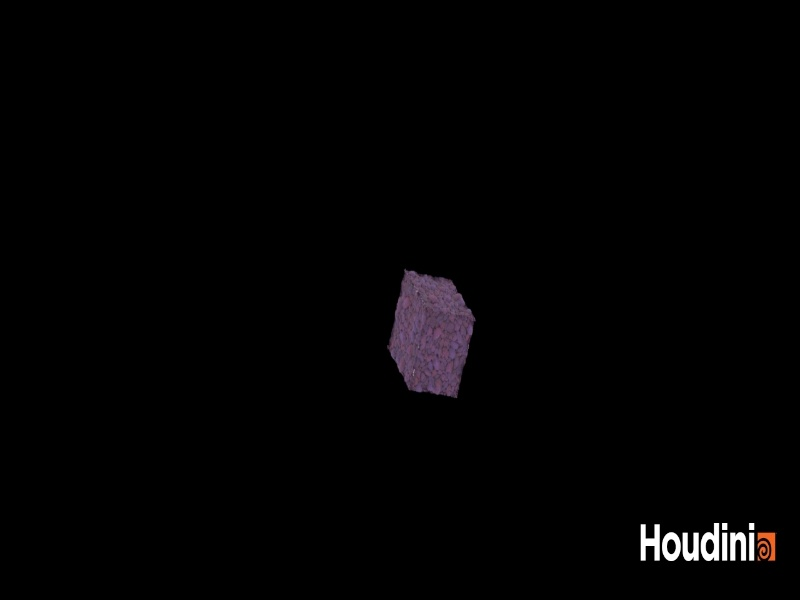waste: (380, 264, 484, 417)
